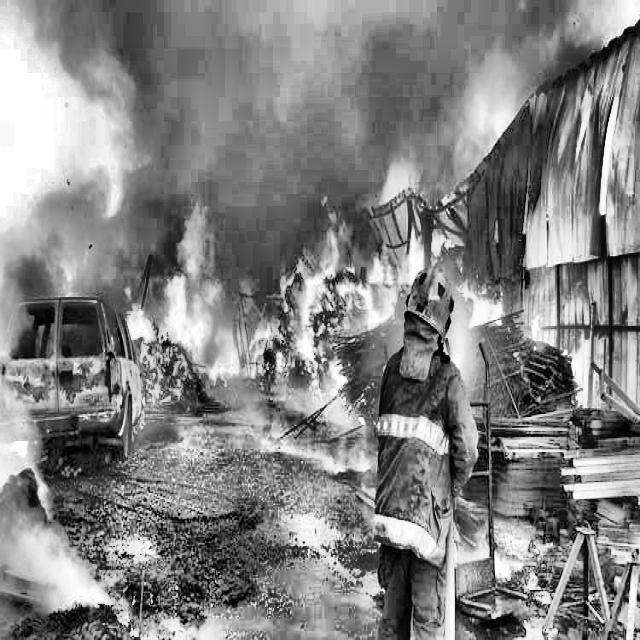fire: (142, 223, 508, 398), (536, 50, 638, 417), (0, 9, 138, 275)
